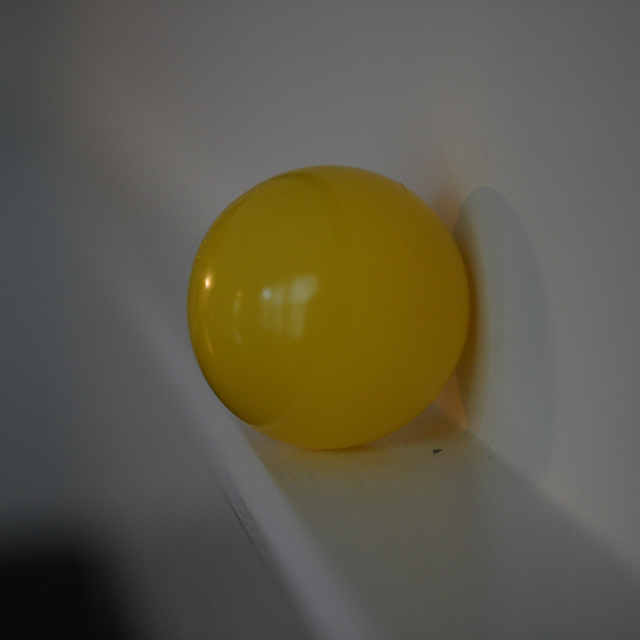Ball: (183, 173, 475, 446)
